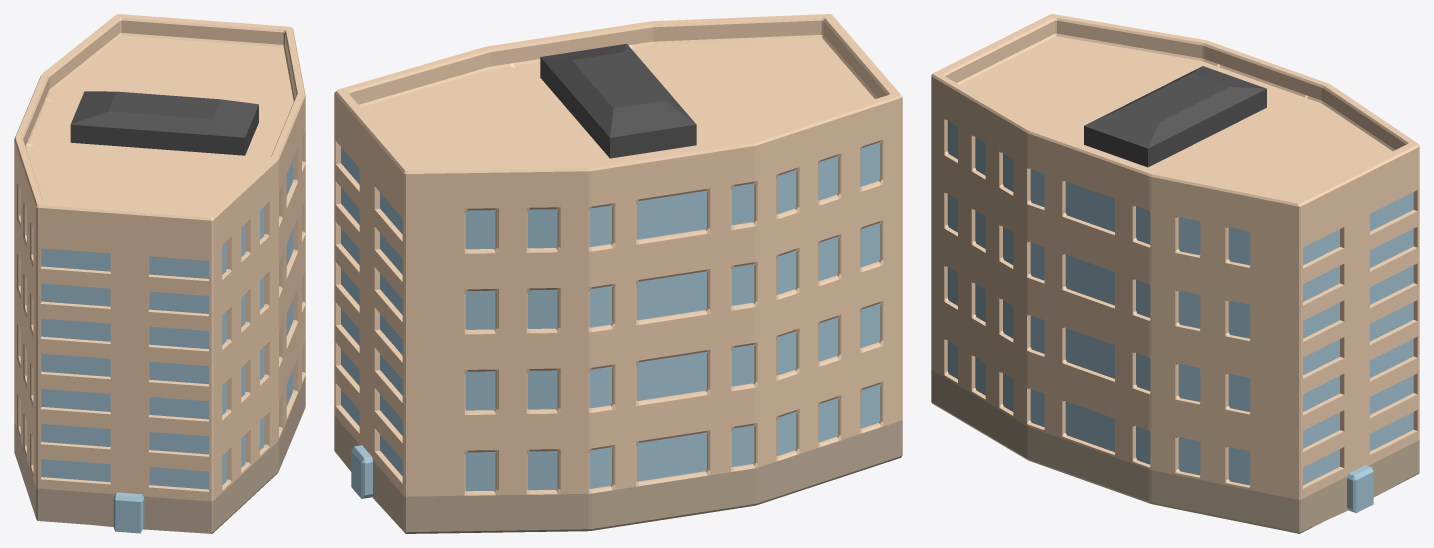
Rendered from Building_012.fbx.
3 views of the same model, side by side, from view 1: azimuth 30°, elevation 25°; view 2: azimuth 150°, elevation 25°; view 3: azimuth 270°, elevation 25° (orthographic). The views are drawn at different scales.
Parts seen in each view (by area): view 1: Building_012; view 2: Building_012; view 3: Building_012.
Boxes of the visible parts, x1=… form: Building_012: x1=14, y1=14, x2=305, y2=533; Building_012: x1=334, y1=14, x2=902, y2=533; Building_012: x1=931, y1=14, x2=1419, y2=533.
Bounding box in the file's own units: 4350 × 3617 × 4696.
